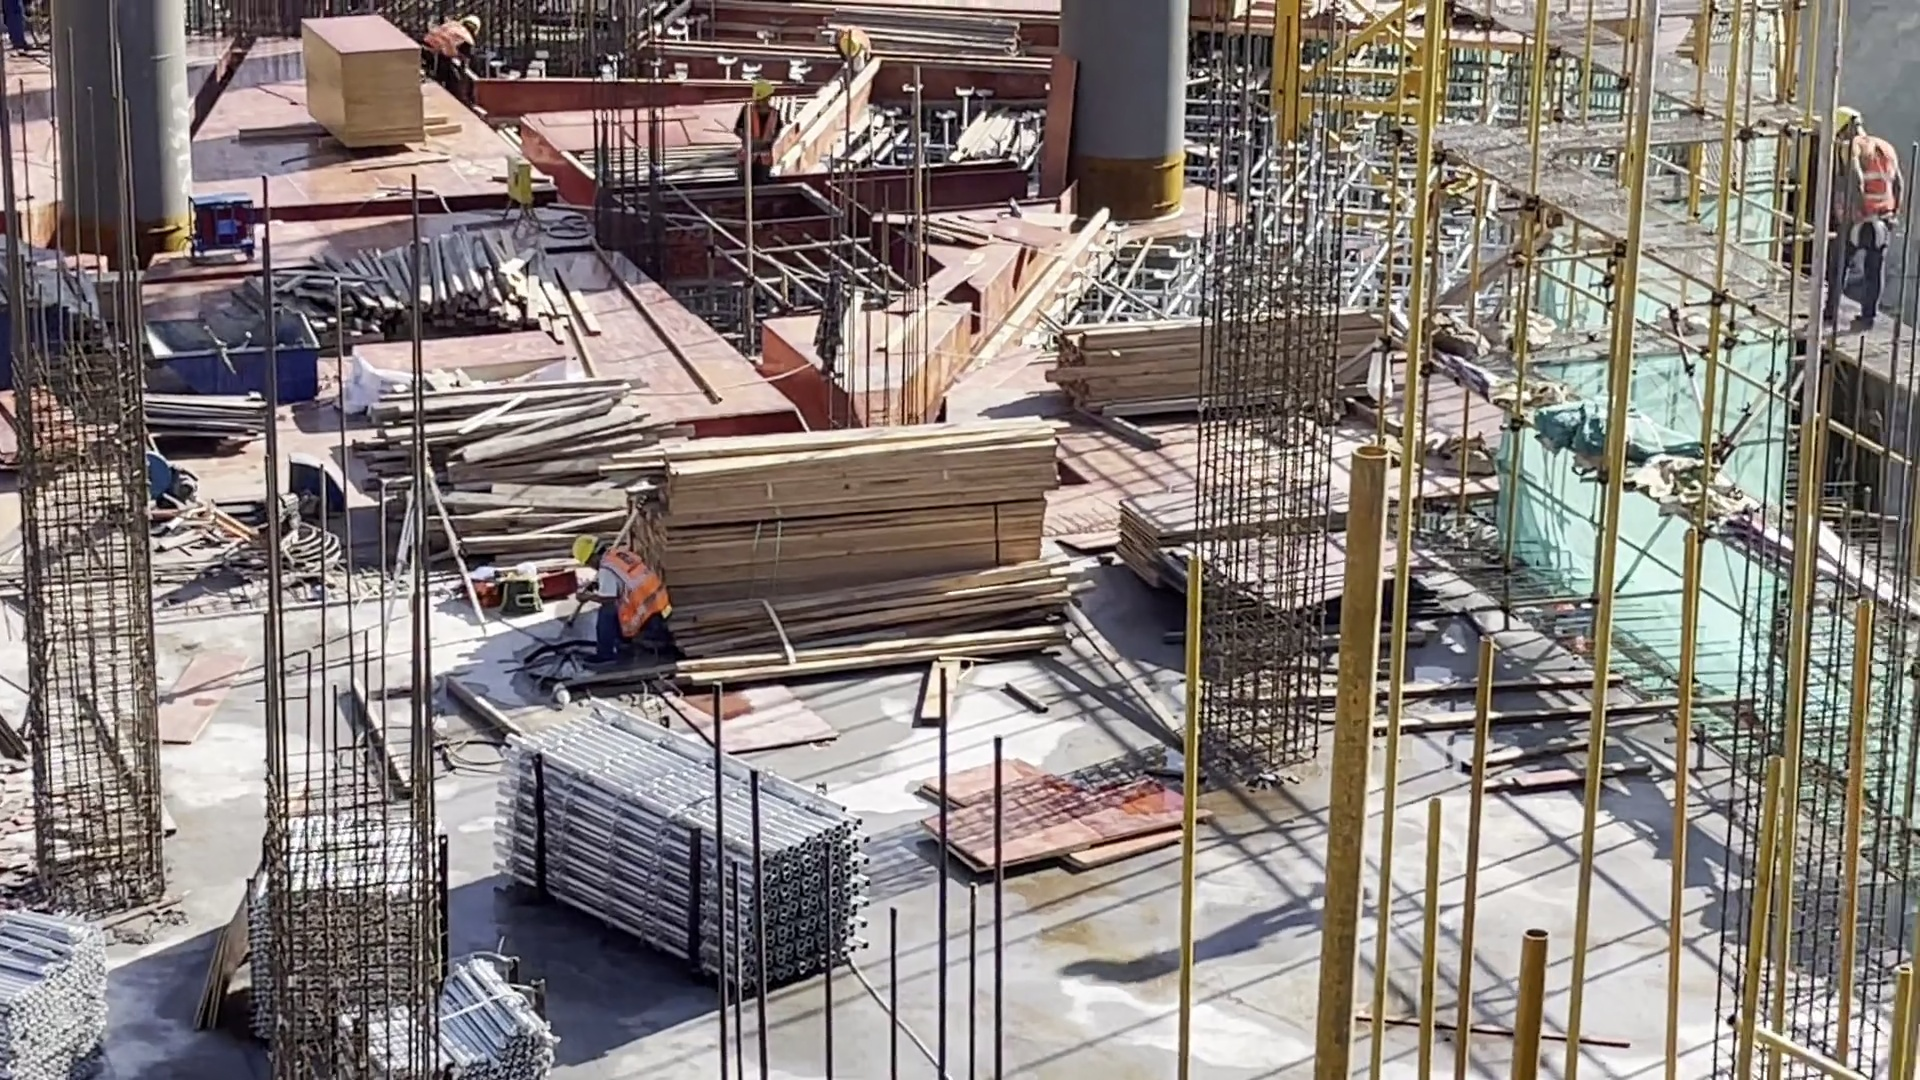board: (1117, 482, 1436, 646), (298, 14, 432, 150)
helmet: (573, 533, 604, 561), (1829, 113, 1861, 137), (750, 82, 774, 102), (463, 13, 482, 31), (842, 37, 858, 56)
hopper: (144, 313, 322, 400)
person: (1825, 109, 1899, 352), (573, 531, 667, 675), (417, 11, 488, 101), (738, 83, 791, 187), (836, 27, 873, 76)
scaffold: (485, 694, 872, 986), (246, 812, 559, 1080), (1, 905, 110, 1070)
vest: (601, 548, 665, 636), (1838, 139, 1898, 231), (740, 102, 776, 167), (422, 23, 467, 59)
wood: (589, 414, 1078, 687), (362, 378, 670, 544), (1041, 308, 1381, 435), (283, 231, 594, 344)
